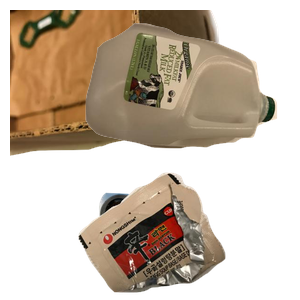cardboard: (10, 10, 237, 158)
glass: (96, 190, 230, 300)
plastic: (83, 21, 300, 162)
trash: (76, 170, 300, 300)
